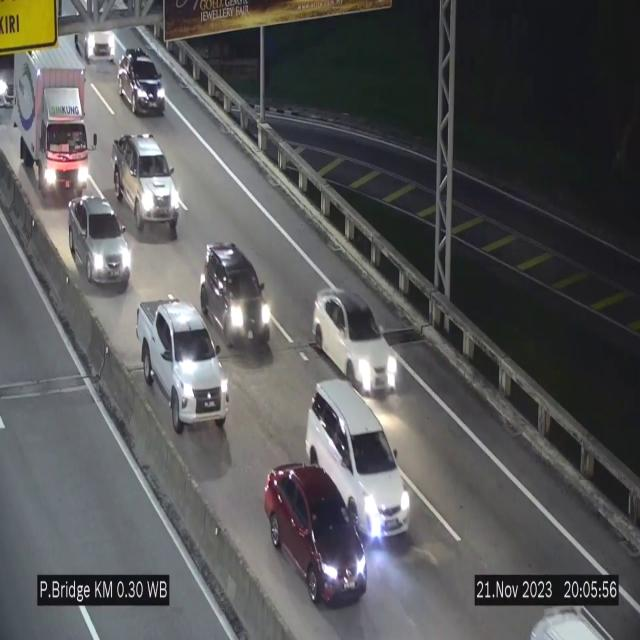Car: (299, 380, 412, 546), (264, 466, 367, 602), (136, 300, 229, 434), (312, 291, 398, 392), (201, 242, 272, 358), (112, 132, 180, 236), (68, 193, 131, 286), (117, 53, 165, 115), (76, 16, 122, 65), (0, 44, 23, 120)
Truck: (10, 46, 97, 196)
